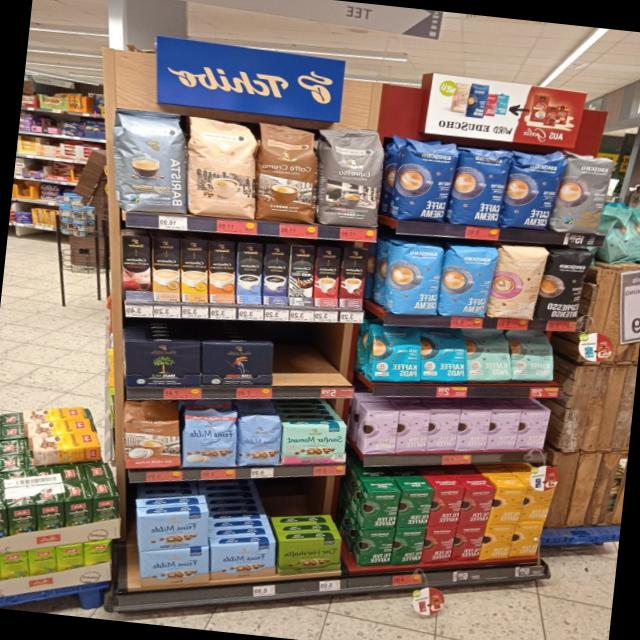BM Gemahlen: (122, 340, 201, 387)
Barista CC: (119, 111, 187, 216)
CC Mild: (182, 113, 258, 223)
CC Vollmundig: (121, 400, 181, 470)
CC Vollmundig 36 Pads: (251, 117, 319, 225)
Empty Shelf: (273, 350, 347, 384)
Espresso Aromatisch: (315, 127, 388, 230)
FM 36 Pads: (178, 408, 238, 469)
FM Bohne: (236, 420, 280, 467)
FM Gemahlen: (135, 510, 210, 551), (137, 547, 210, 586), (209, 541, 276, 581)
Herzhatfe Mundig: (275, 537, 343, 574)
LG Gemahlen: (200, 341, 273, 385)
SM Gemahlen: (280, 424, 347, 464)
Simo CC Colombia: (121, 234, 152, 303)
Simo CCMild bigpack: (180, 237, 210, 305)
Simo CCVollmundig bigpack: (208, 237, 236, 306)
Simo Decaff: (151, 234, 182, 305)
Simo Es Elegant: (312, 244, 340, 307)
Simo Es Kraft: (337, 246, 369, 311)
Simo Kaffee BW: (287, 244, 315, 305)
Simo Kaffee Kraft: (261, 241, 290, 306)
Simo Kaffee Mild: (235, 241, 264, 306)
